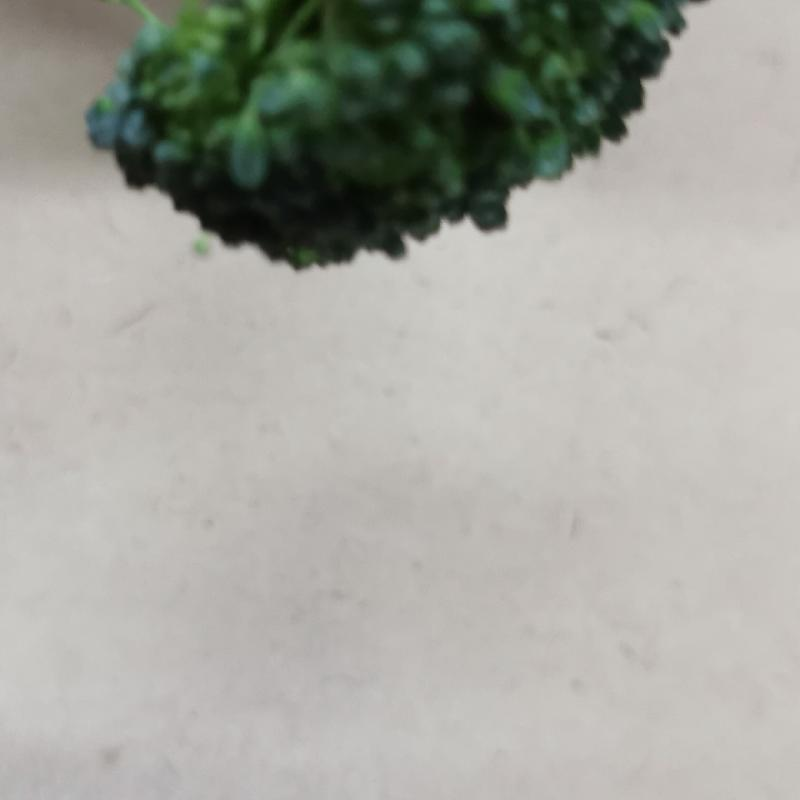broccoli: (84, 0, 691, 277)
